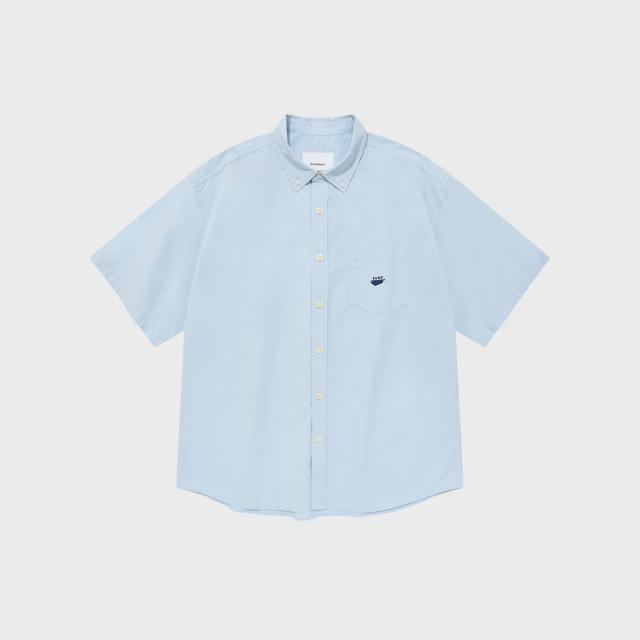dress: (98, 119, 536, 512)
